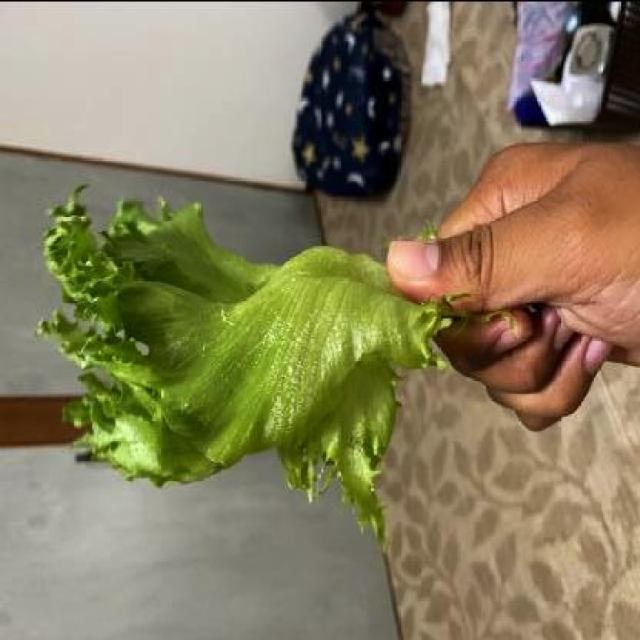Lettuce: (33, 181, 458, 544)
